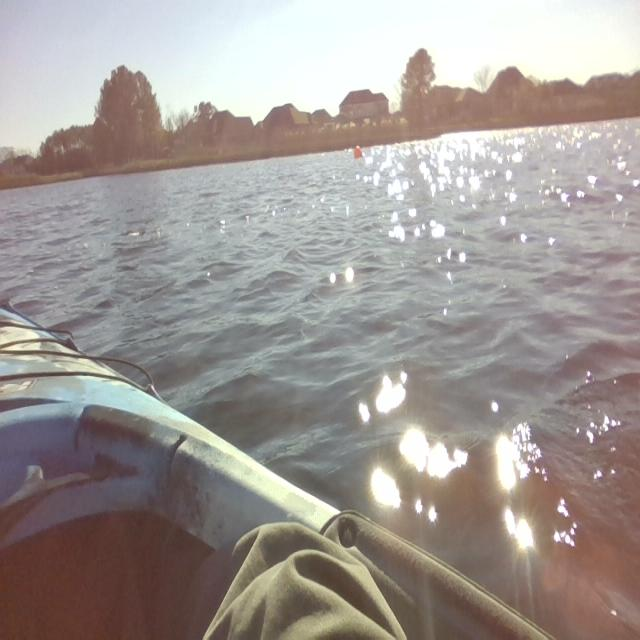Buoy: (350, 138, 370, 162)
